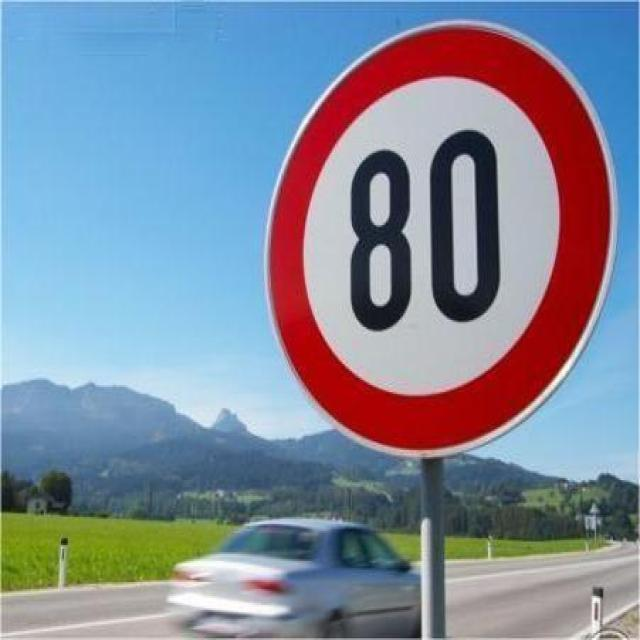speed limit 80: (264, 18, 617, 462)
